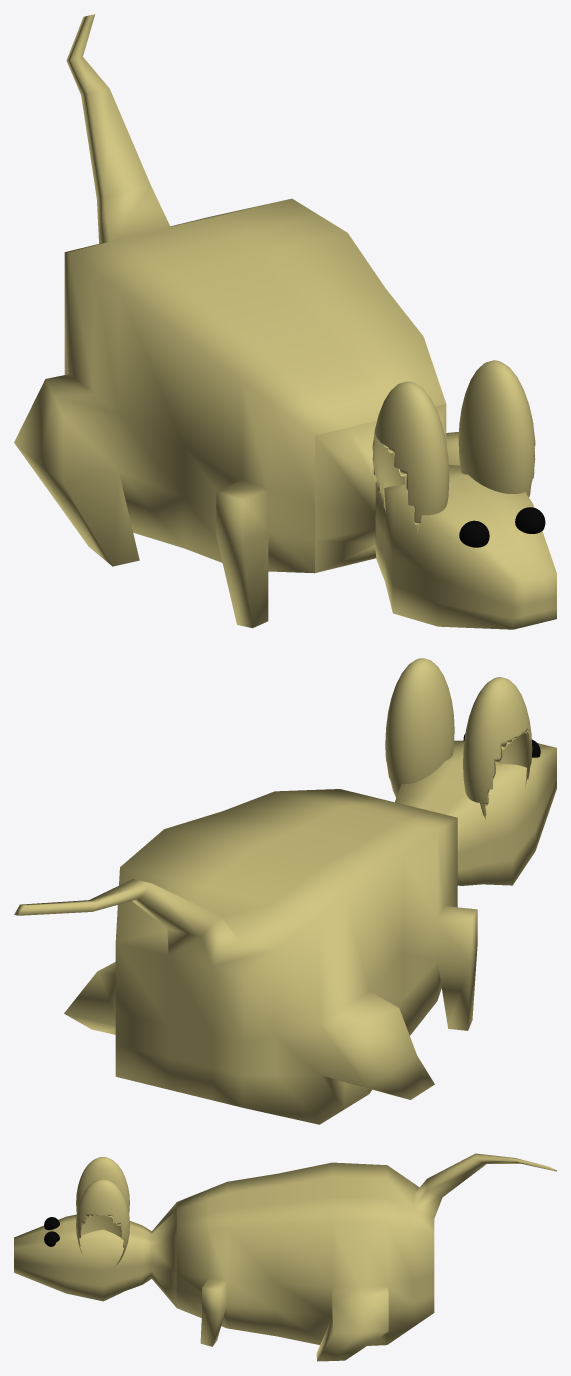
The model's file is Mouse.obj.
The picture shows the model from 3 angles, top to bottom: view 1: azimuth 30°, elevation 25°; view 2: azimuth 150°, elevation 25°; view 3: azimuth 270°, elevation 25°; orthographic projection. The views are drawn at different scales.
Parts seen in each view (by area): view 1: Cube, Sphere, Sphere.002; view 2: Cube, Sphere, Sphere.002; view 3: Cube, Sphere, Sphere.002.
Part boxes in pixels (x1,y1,x2,y2): Cube: [14, 14, 556, 629]; Sphere: [458, 360, 535, 497]; Sphere.002: [372, 381, 449, 533]; Cube: [14, 740, 556, 1124]; Sphere: [385, 658, 454, 797]; Sphere.002: [463, 677, 532, 818]; Cube: [14, 1153, 556, 1361]; Sphere: [76, 1179, 129, 1266]; Sphere.002: [76, 1157, 129, 1213].
Bounding box in the file's own units: 4.27 × 3.84 × 10.79.
